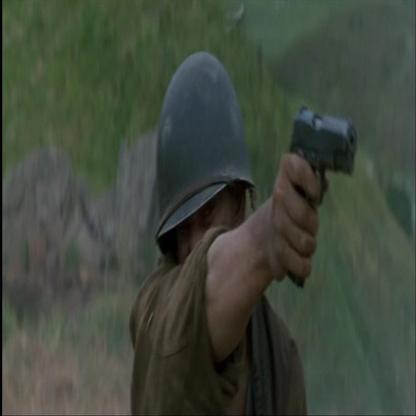gun: (288, 87, 360, 216)
